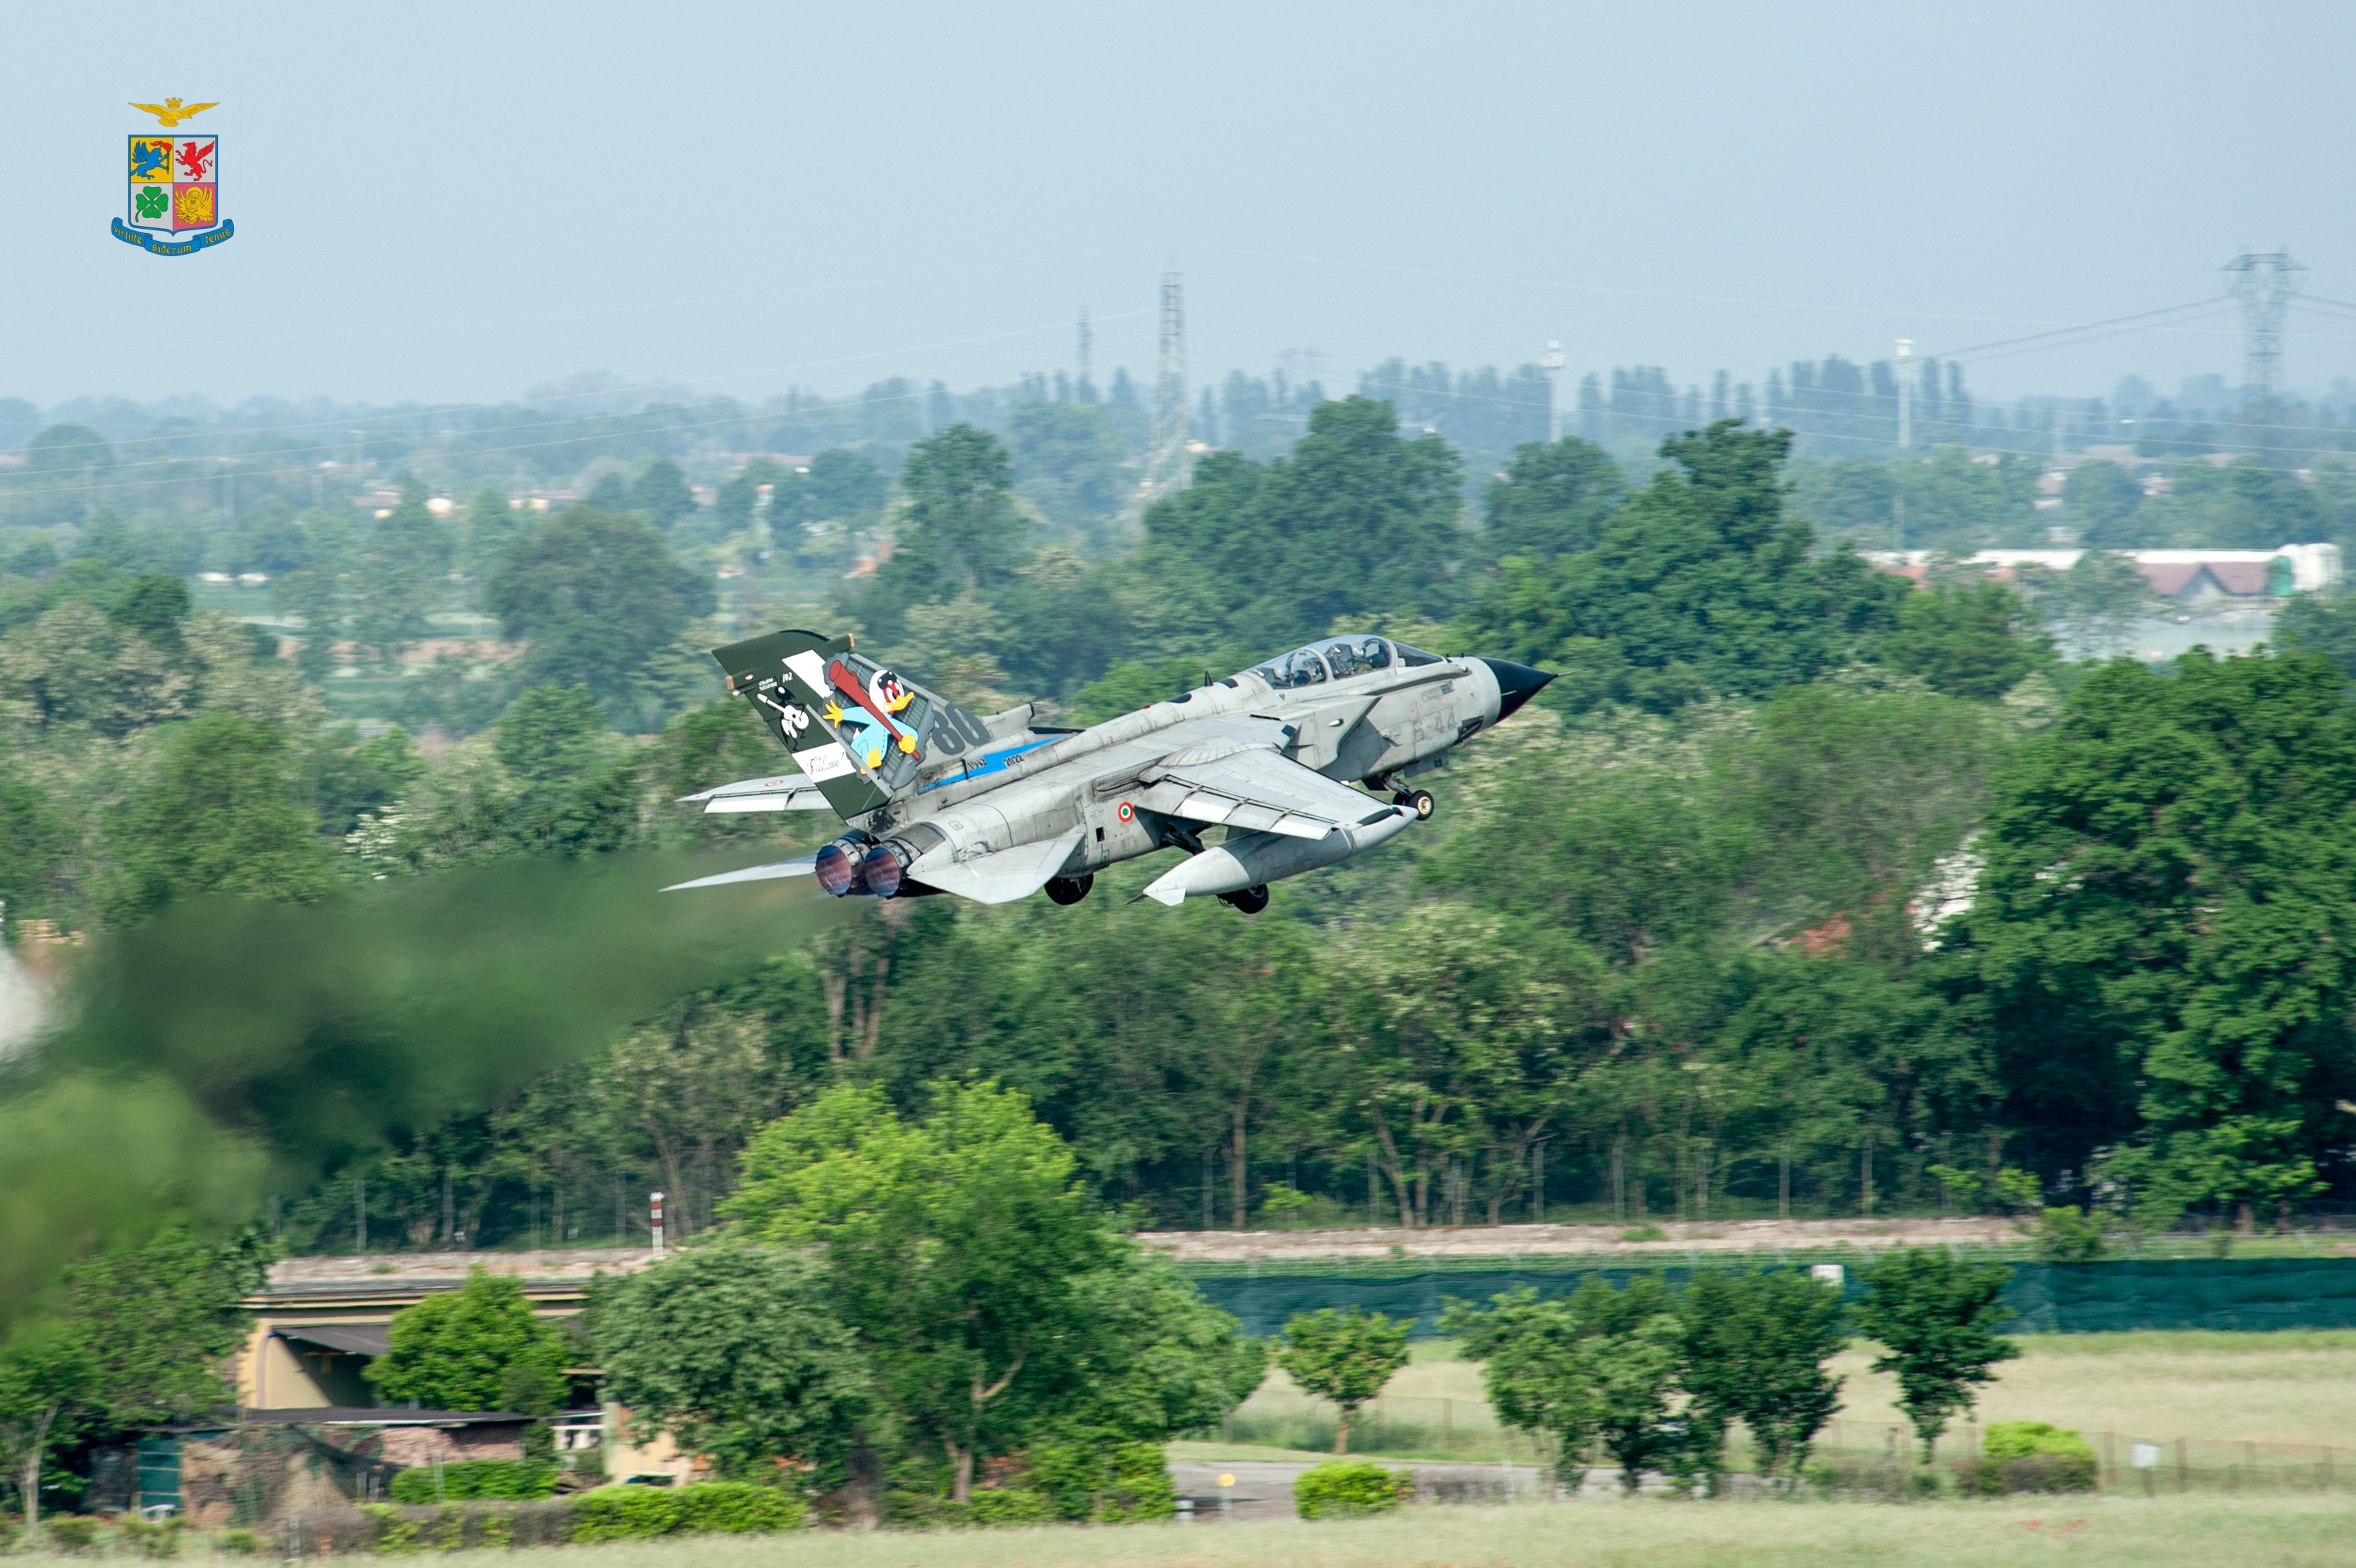Tornado: (656, 628, 1595, 915)
